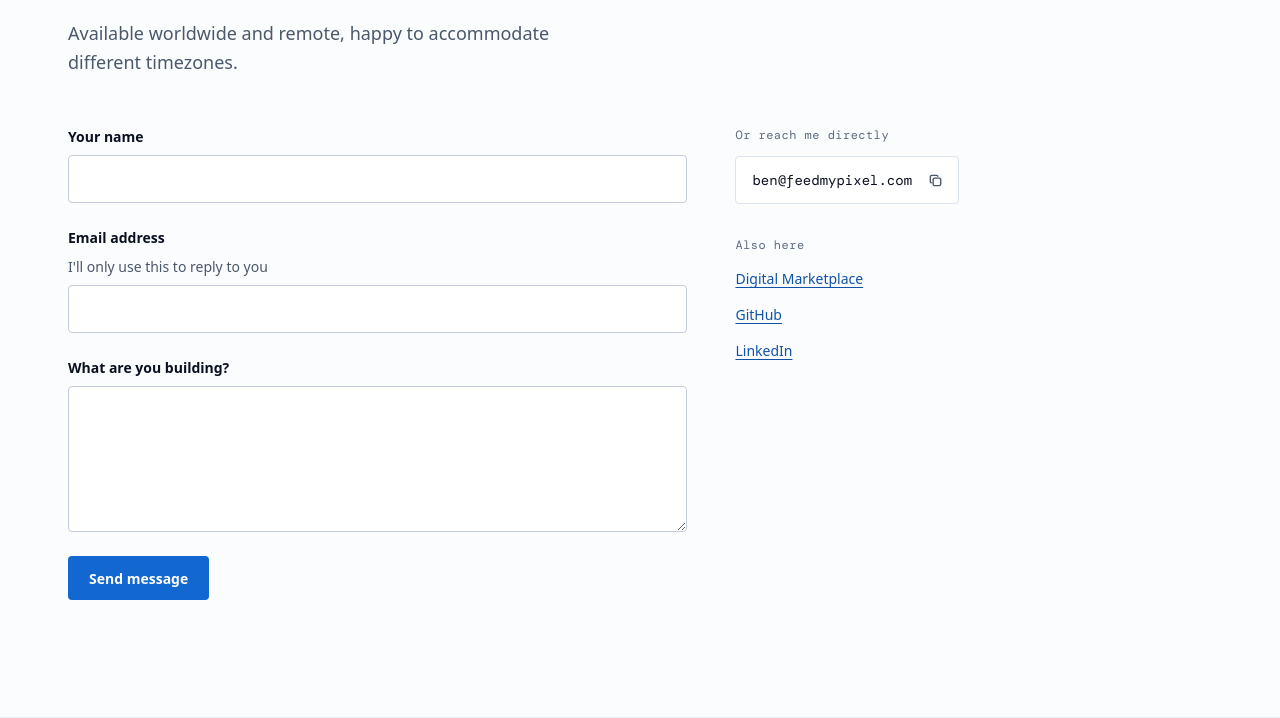
Test: an empty submit names every problem and says how many
(page scrolled)
Click the button "Send message" at (139, 578), box [68,556,209,600]
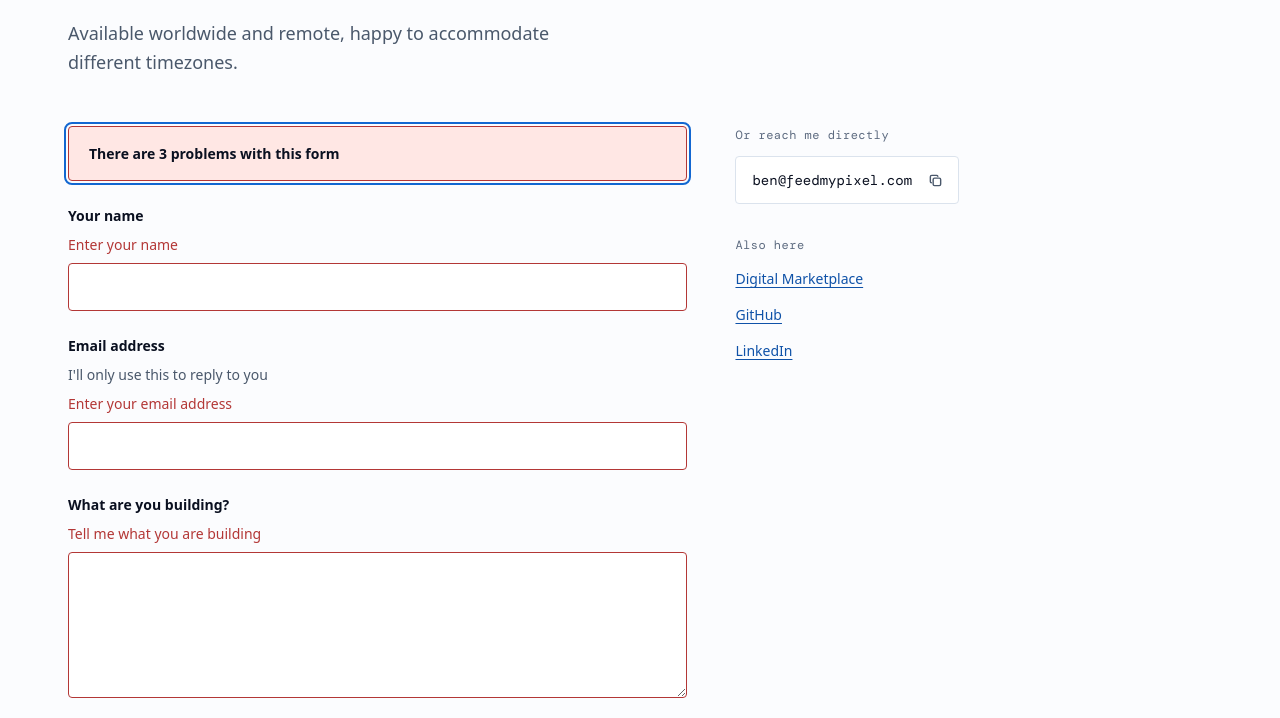
Expected: the message reads "There are 3 problems with this form", [89,144,340,163]
Expected: the text "Enter your name" is shown, [68,235,178,254]
Expected: the text "Enter your email address" is shown, [68,394,232,413]
